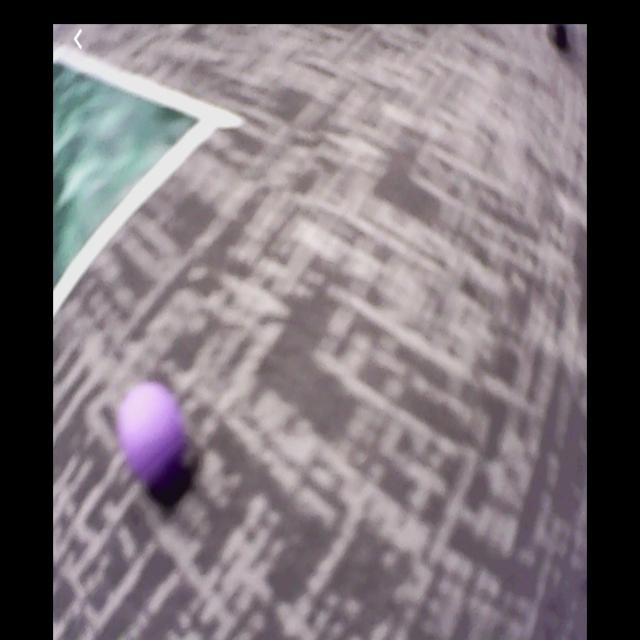ball: (123, 385, 189, 494)
